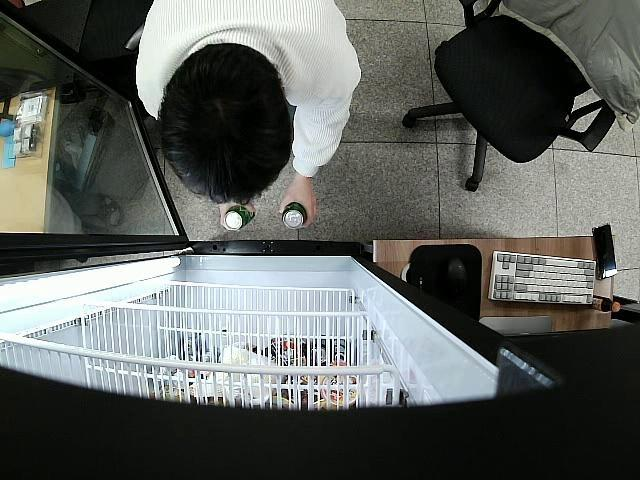12_chilsungCider: (226, 204, 253, 230), (282, 202, 307, 228)
